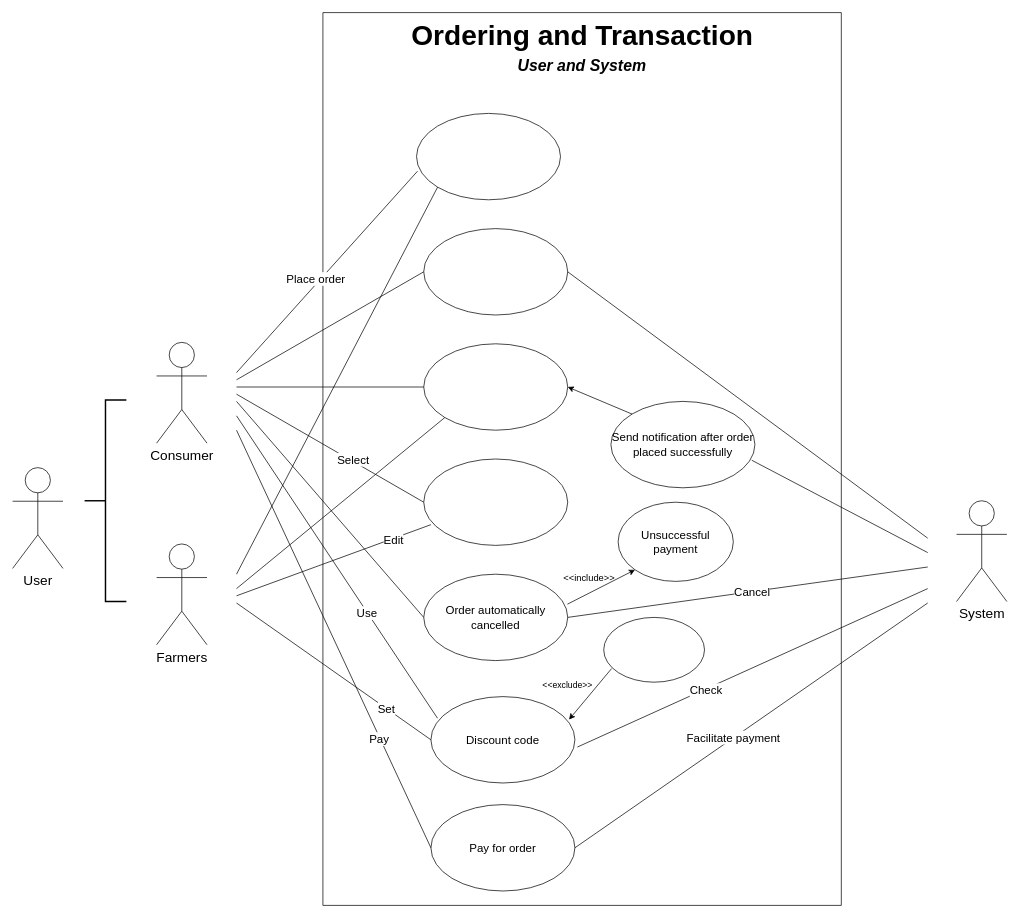
The diagram is 1020 pixels wide and 918 high, and some of its shapes have lost their labels. The box of each missing label's shape, as (x1, y1, x2, y2) in pixels:
Add product into cart: (423, 228, 568, 315)
Crop listing: (416, 113, 561, 200)
Delivery method: (423, 458, 568, 545)
Invalid discount code: (603, 617, 705, 682)
Receive notification after order placed successfully: (423, 343, 568, 430)
